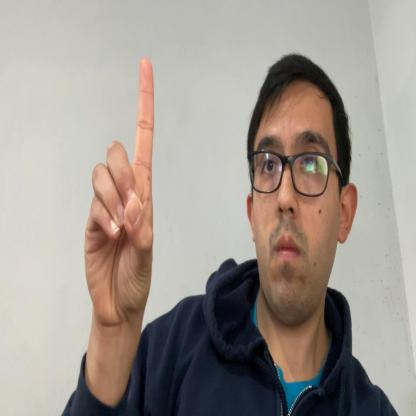D: (84, 59, 154, 323)
